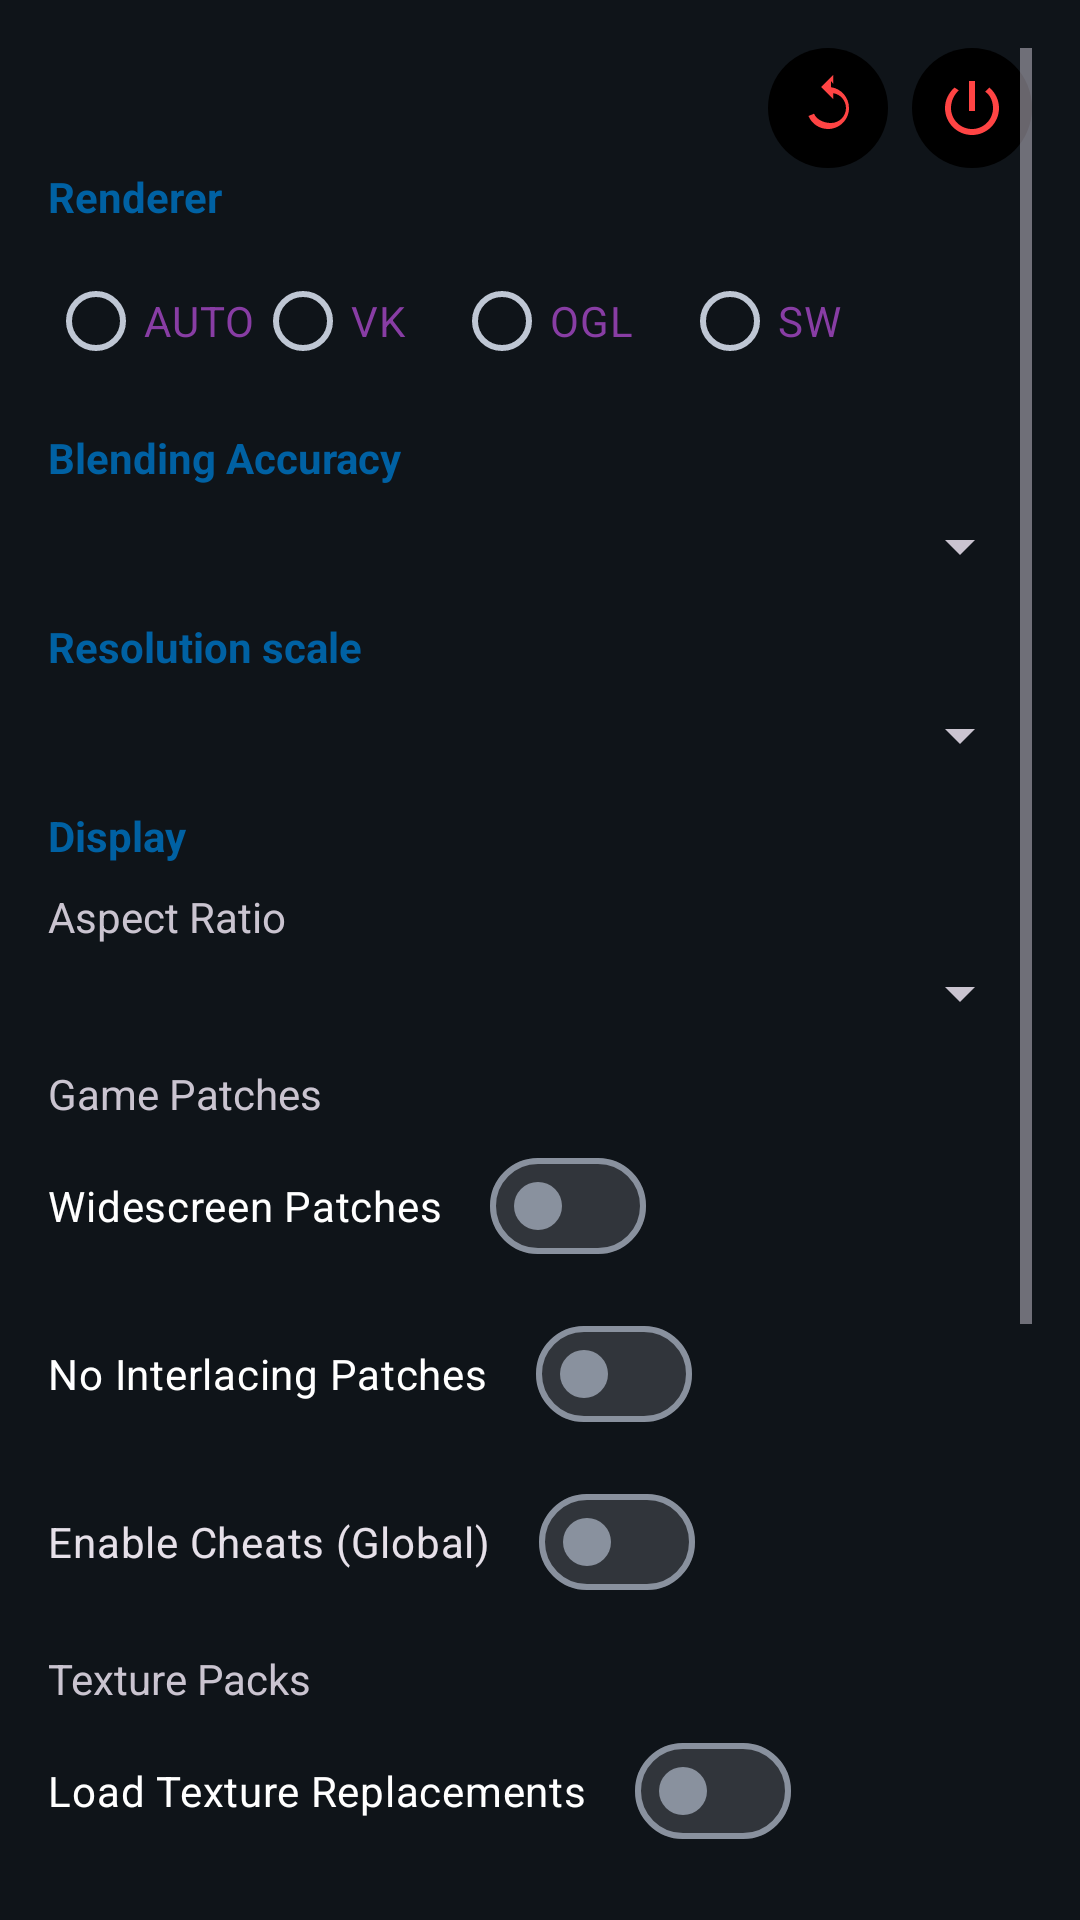

Named icons in this screenshot (1080x1920) and their bounding boxes, (x1, y1, x2, y2):
Power: (912, 48, 1032, 168)
Reboot: (768, 48, 888, 168)
